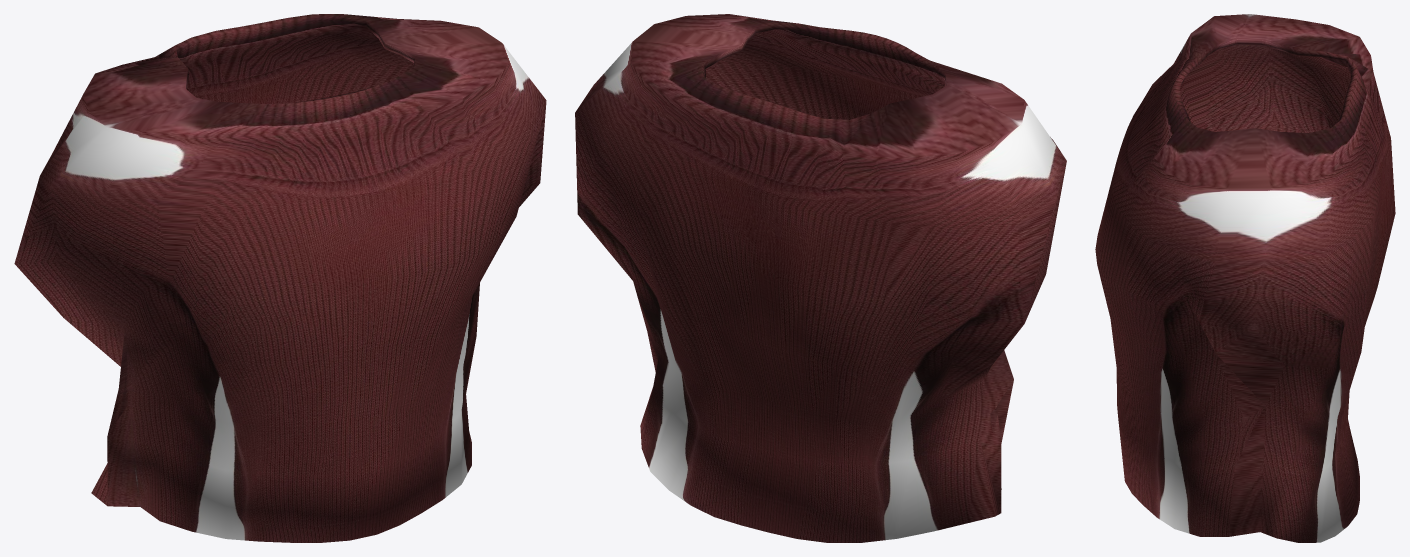
The model's file is 7bf6fbb4-fb0e-4ca3-ae28-c4067d3ffcc1.glb.
3 views of the same model, side by side, from view 1: azimuth 30°, elevation 25°; view 2: azimuth 150°, elevation 25°; view 3: azimuth 270°, elevation 25° (orthographic). The views are drawn at different scales.
Parts seen in each view (by area): view 1: garment; view 2: garment; view 3: garment.
Boxes of the visible parts, x1=… form: garment: x1=14, y1=14, x2=546, y2=542; garment: x1=575, y1=14, x2=1066, y2=542; garment: x1=1095, y1=14, x2=1395, y2=542.
Bounding box in the file's own units: 0.5445 × 0.4773 × 0.3235.
Materials: 1 (1 with a texture image).
